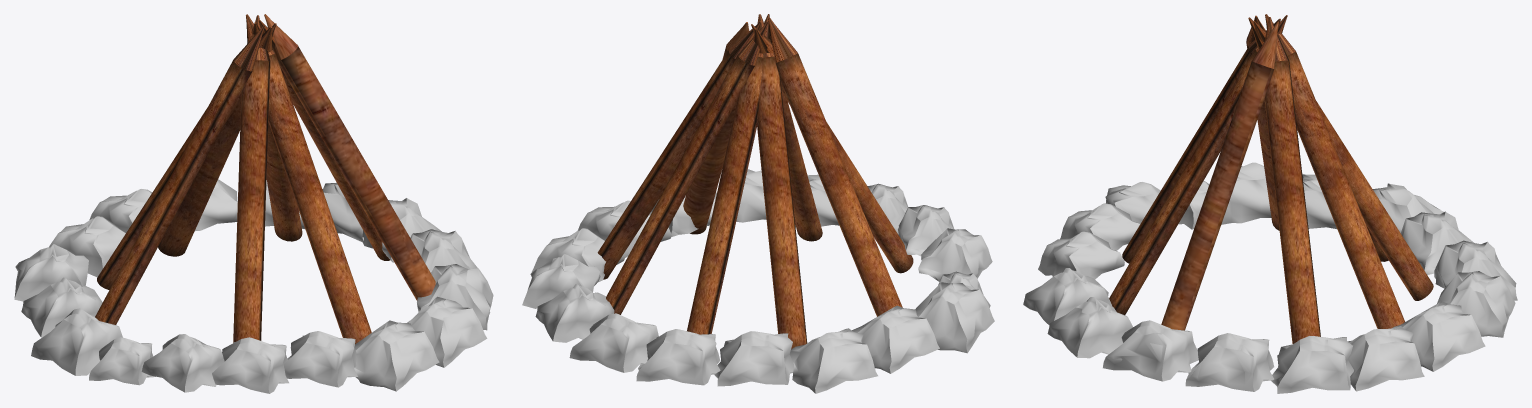
File: Campfire v2.fbx
3 renders of one model, left to right at view 1: azimuth 30°, elevation 25°; view 2: azimuth 150°, elevation 25°; view 3: azimuth 270°, elevation 25°, orthographic. The views are drawn at different scales.
Parts seen in each view (by area): view 1: Cylinder005, Cylinder006, Cylinder004, Cylinder008, Box038, Cylinder002, Box021, Box042, Box041, Box037, Box039, Box026 (+12 smaller); view 2: Cylinder008, Cylinder003, Cylinder002, Cylinder001, Cylinder007, Box026, Box021, Box027, Box028, Box025, Box029, Box030 (+13 smaller); view 3: Cylinder007, Cylinder001, Cylinder004, Cylinder005, Cylinder002, Box032, Box035, Box033, Box031, Box030, Box037, Box029 (+12 smaller).
Boxes of the visible parts, left/top/right/bottom form: Cylinder005: left=246, top=14, right=371, bottom=343; Cylinder006: left=233, top=15, right=270, bottom=342; Cylinder004: left=264, top=14, right=435, bottom=300; Cylinder008: left=95, top=25, right=264, bottom=324; Box038: left=354, top=320, right=439, bottom=391; Cylinder002: left=158, top=26, right=272, bottom=256; Box021: left=31, top=308, right=122, bottom=375; Box042: left=283, top=331, right=357, bottom=387; Box041: left=212, top=337, right=288, bottom=393; Box037: left=407, top=296, right=487, bottom=367; Box039: left=141, top=334, right=224, bottom=392; Box026: left=14, top=244, right=88, bottom=301; Cylinder008: left=768, top=17, right=902, bottom=316; Cylinder003: left=757, top=14, right=807, bottom=349; Cylinder002: left=687, top=14, right=770, bottom=334; Cylinder001: left=606, top=21, right=768, bottom=314; Cylinder007: left=597, top=21, right=761, bottom=279; Box026: left=789, top=328, right=877, bottom=393; Box021: left=915, top=282, right=994, bottom=353; Box027: left=714, top=331, right=793, bottom=386; Box028: left=636, top=329, right=720, bottom=385; Box025: left=852, top=305, right=939, bottom=373; Box029: left=569, top=313, right=658, bottom=372; Box030: left=535, top=284, right=614, bottom=342; Cylinder007: left=1264, top=17, right=1320, bottom=343; Cylinder001: left=1265, top=14, right=1404, bottom=328; Cylinder004: left=1161, top=21, right=1278, bottom=330; Cylinder005: left=1109, top=15, right=1287, bottom=315; Cylinder002: left=1248, top=17, right=1433, bottom=300; Box032: left=1271, top=336, right=1353, bottom=393; Box035: left=1103, top=320, right=1198, bottom=381; Box033: left=1185, top=333, right=1274, bottom=391; Box031: left=1347, top=326, right=1424, bottom=391; Box030: left=1393, top=301, right=1485, bottom=371; Box037: left=1047, top=297, right=1132, bottom=358; Box029: left=1437, top=271, right=1515, bottom=337.
Size of the model in its own units: 5.22 by 3.41 by 5.33.
